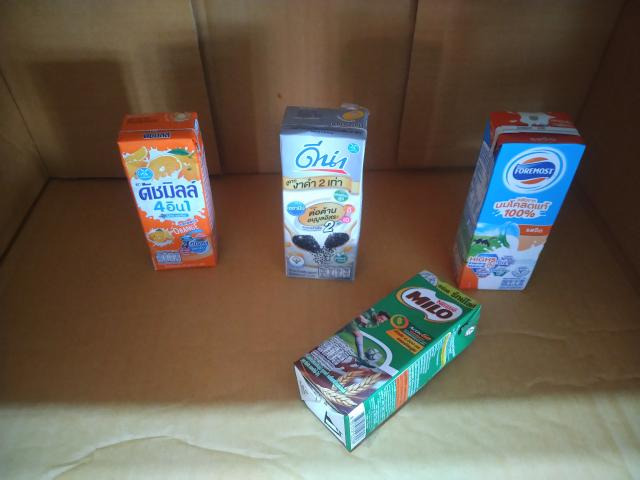drink_box: (272, 254, 526, 473), (441, 96, 584, 302), (102, 92, 236, 278), (271, 89, 378, 291)
